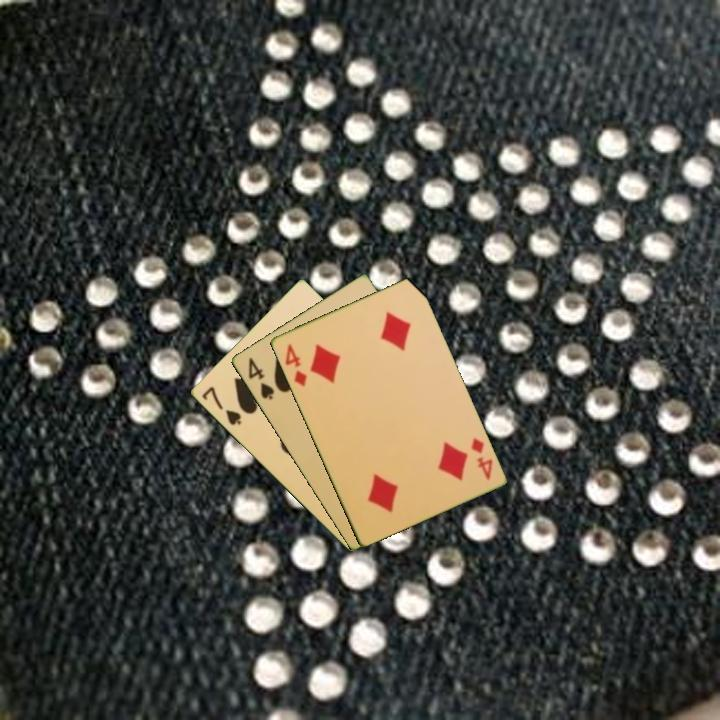4d: (281, 340, 309, 389), (467, 434, 495, 483)
4s: (244, 353, 277, 403)
7s: (198, 383, 244, 428)
